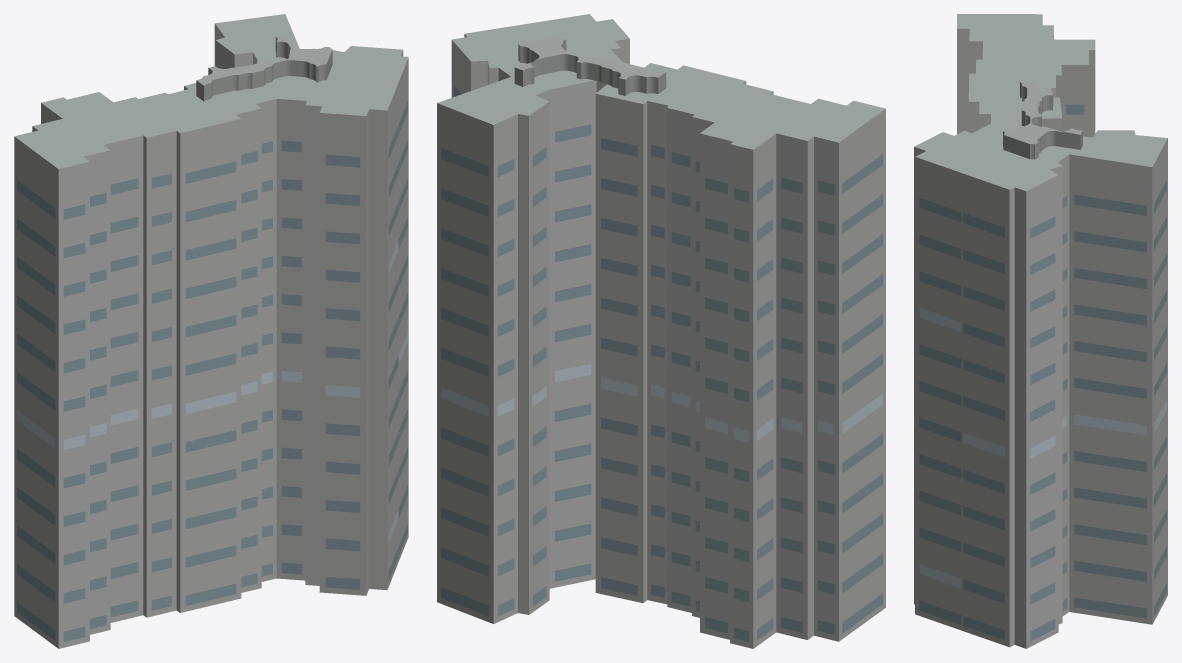
Rendered from fallback-godeok-arteon-completion-304.glb.
3 renders of one model, left to right at view 1: azimuth 30°, elevation 25°; view 2: azimuth 150°, elevation 25°; view 3: azimuth 270°, elevation 25°, orthographic. The views are drawn at different scales.
Visible parts, largest first — view 1: fallback-godeok-arteon-completion-304; view 2: fallback-godeok-arteon-completion-304; view 3: fallback-godeok-arteon-completion-304.
Part boxes in pixels (left/top/right/bottom): fallback-godeok-arteon-completion-304: left=14, top=14, right=408, bottom=648; fallback-godeok-arteon-completion-304: left=437, top=14, right=885, bottom=648; fallback-godeok-arteon-completion-304: left=914, top=14, right=1167, bottom=648.
Size of the model in its own units: 60.4 by 75 by 36.49.
